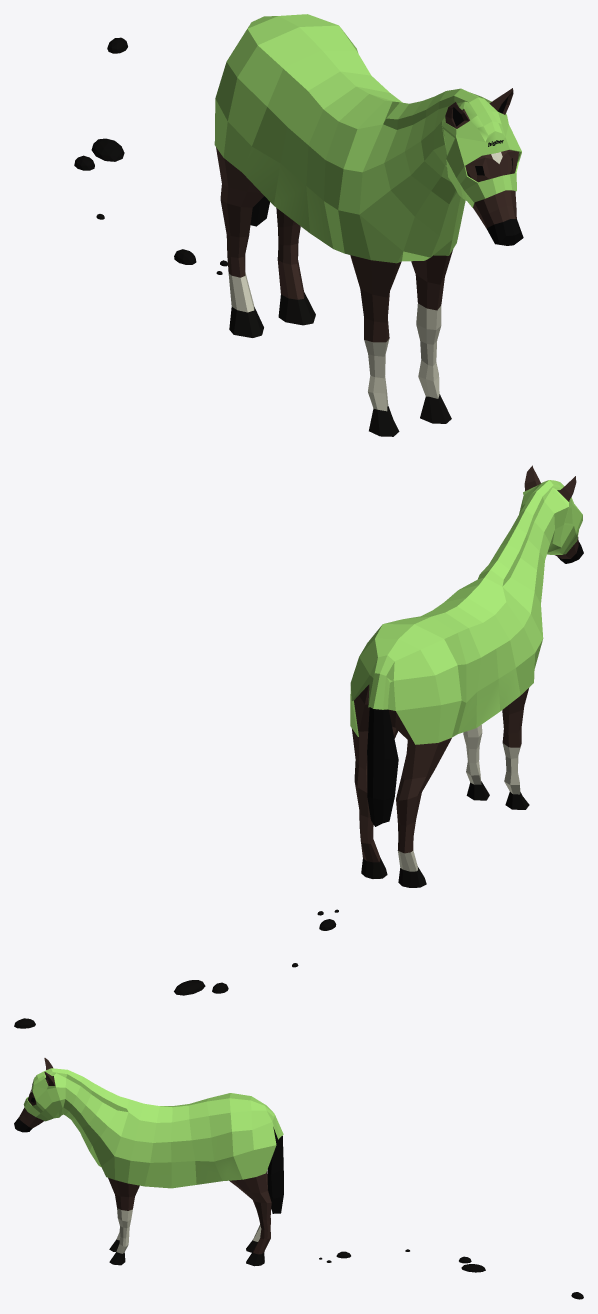
File: Horsefacts_green_poo.glb
3 views of the same model, one above another, from view 1: azimuth 30°, elevation 25°; view 2: azimuth 150°, elevation 25°; view 3: azimuth 270°, elevation 25° (orthographic). The views are drawn at different scales.
Visible parts, largest first — view 1: horse; view 2: horse; view 3: horse.
Boxes of the visible parts, <box> form: horse: <box>74,14,523,436</box>; horse: <box>14,465,583,1028</box>; horse: <box>14,1058,583,1299</box>.
Size of the model in its own units: 1.33 by 1.99 by 5.37.
